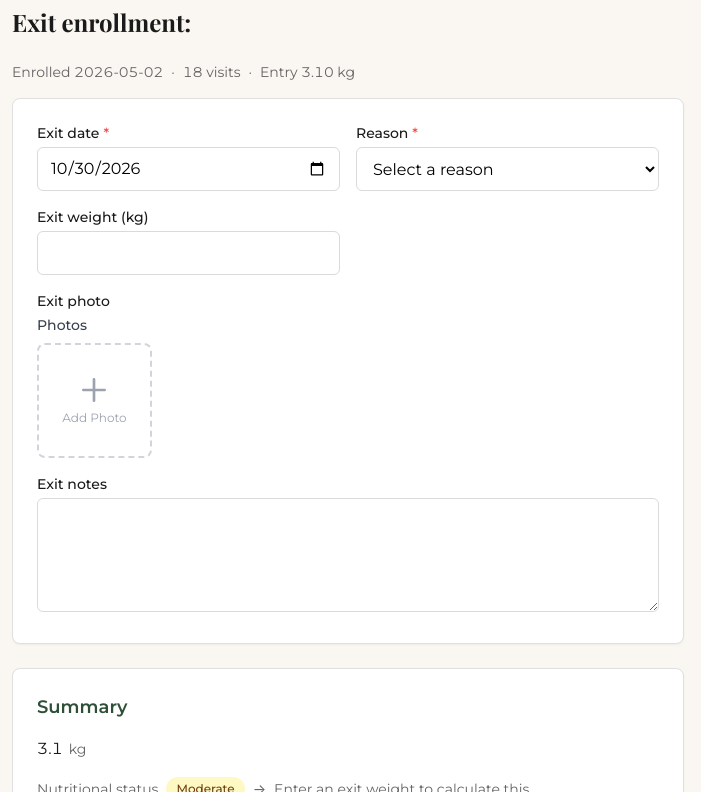
Test: ExitEnrollmentPage › refuses an exit date earlier than the admission date
In the date field labelled "Exit date*": (188, 169) [37, 147, 340, 191], type "2026-04-01"
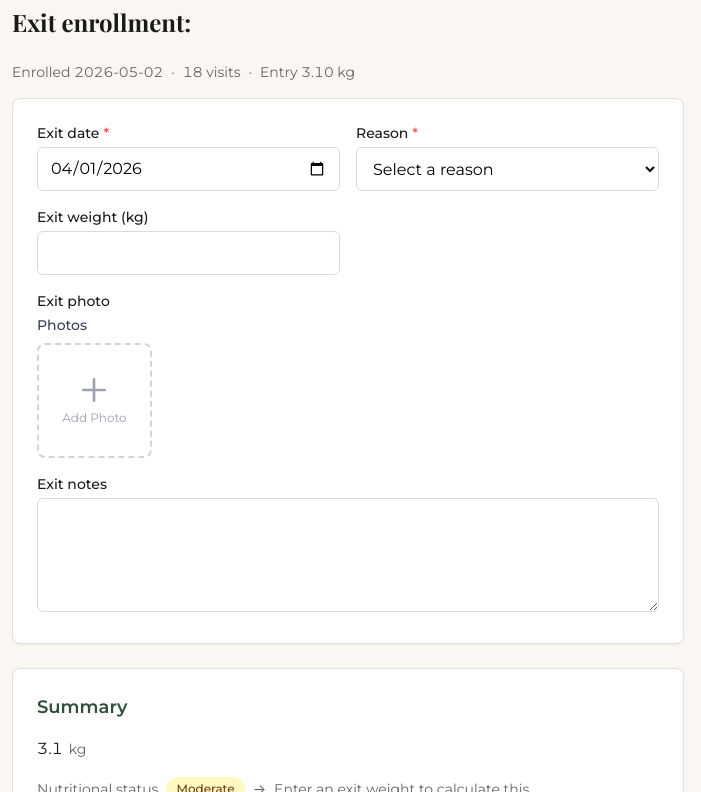
Select "Graduated" in the dropdown labelled "Reason*": (508, 169) [356, 147, 659, 191]
(page scrolled)
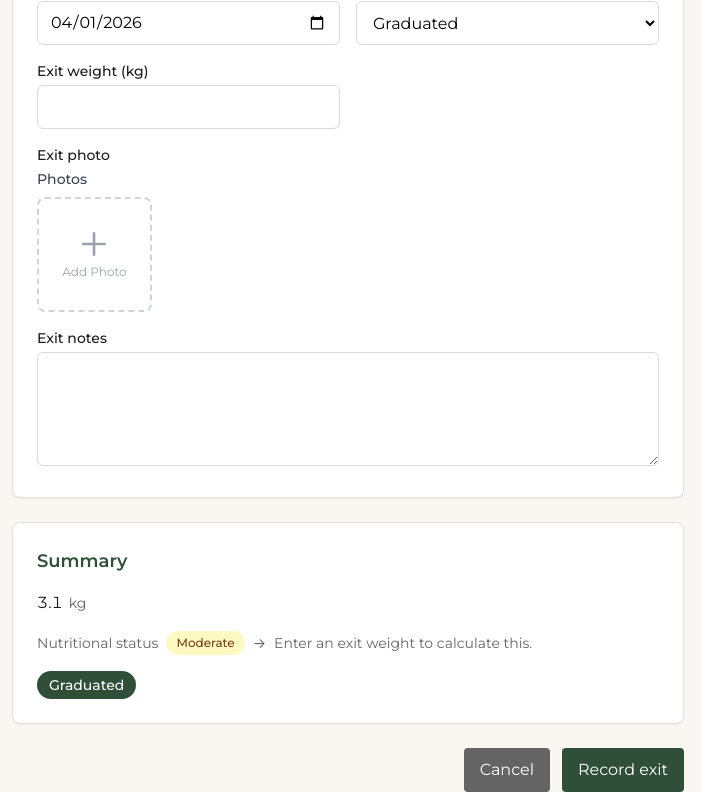
Click the button "Record exit": (623, 770) [562, 748, 684, 791]
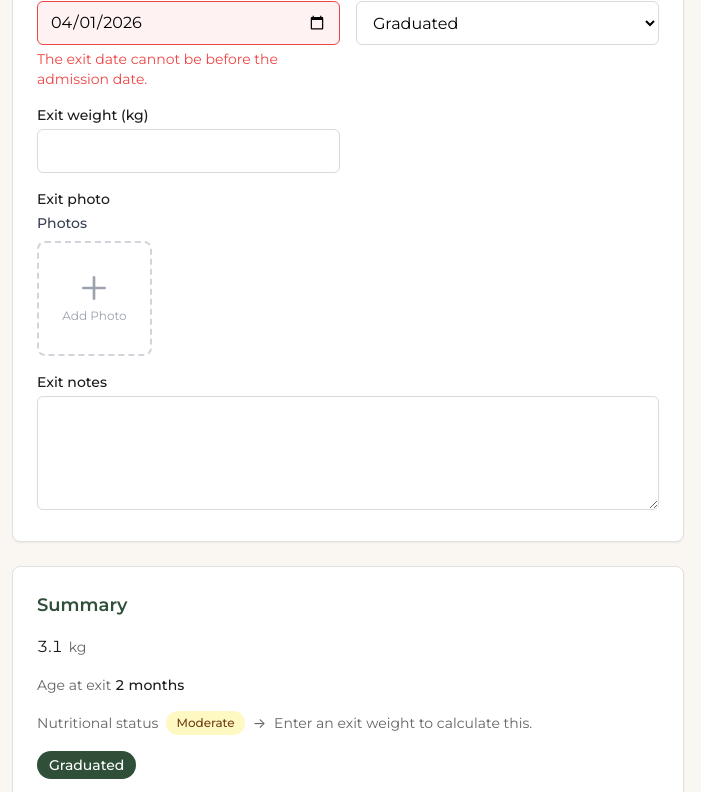
Result: the text "The exit date cannot be before the admission date." is shown at [37, 50, 278, 88]
